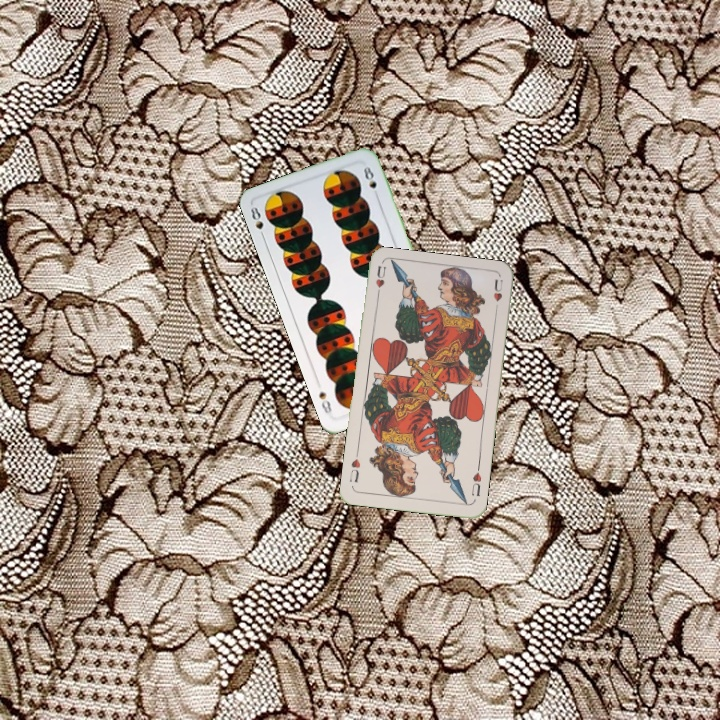HU: (372, 262, 388, 302), (467, 468, 484, 499)
S8: (246, 202, 268, 242)
